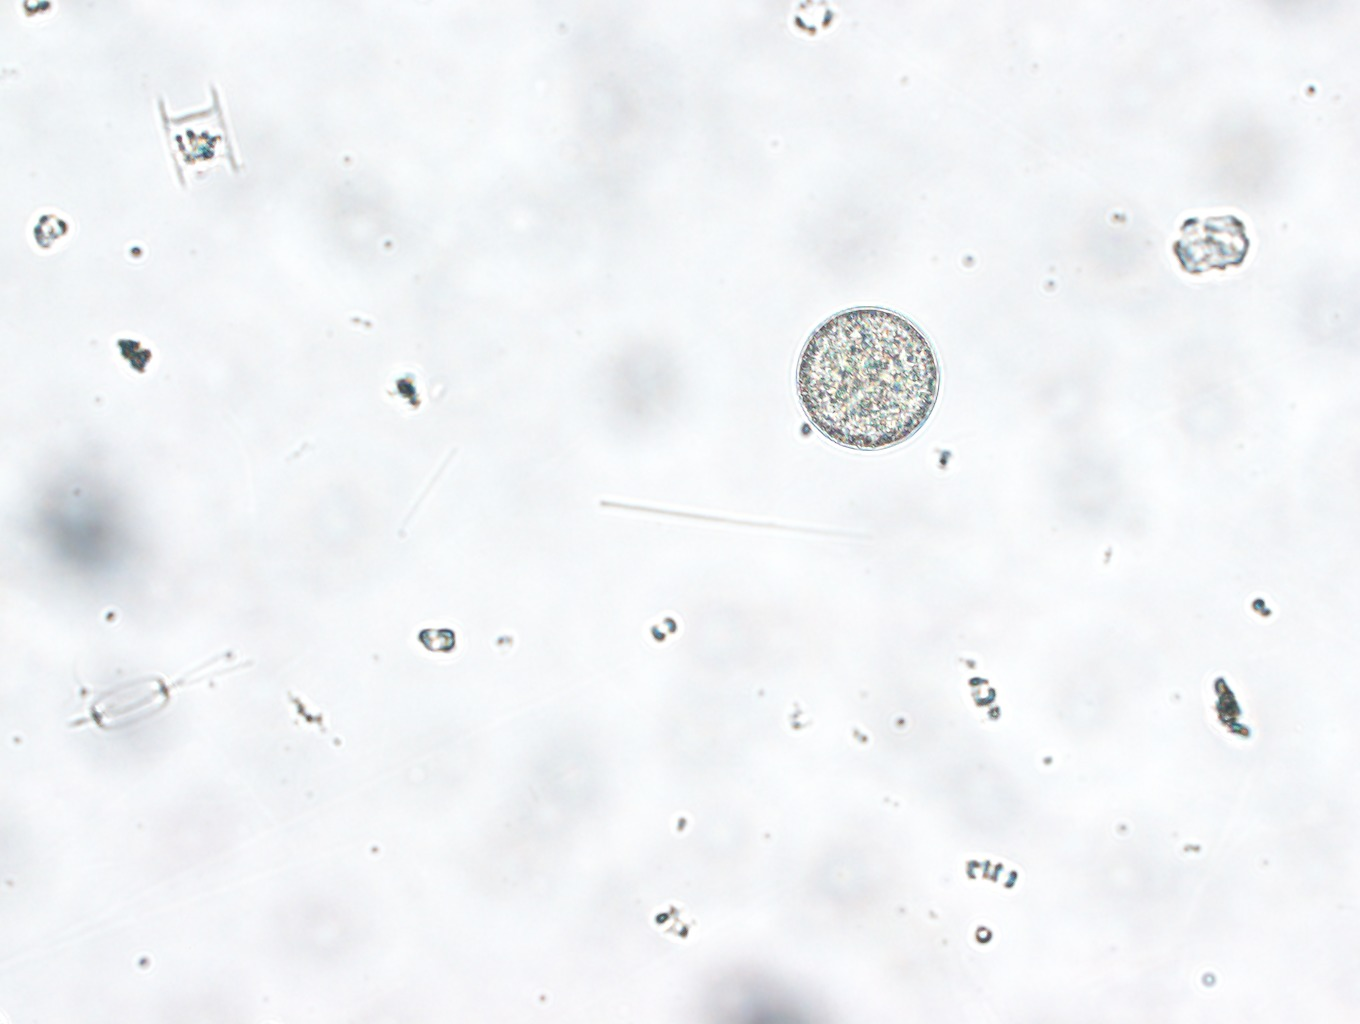chaetoceros: (16, 624, 255, 746)
coscinodiscus: (789, 294, 943, 457)
